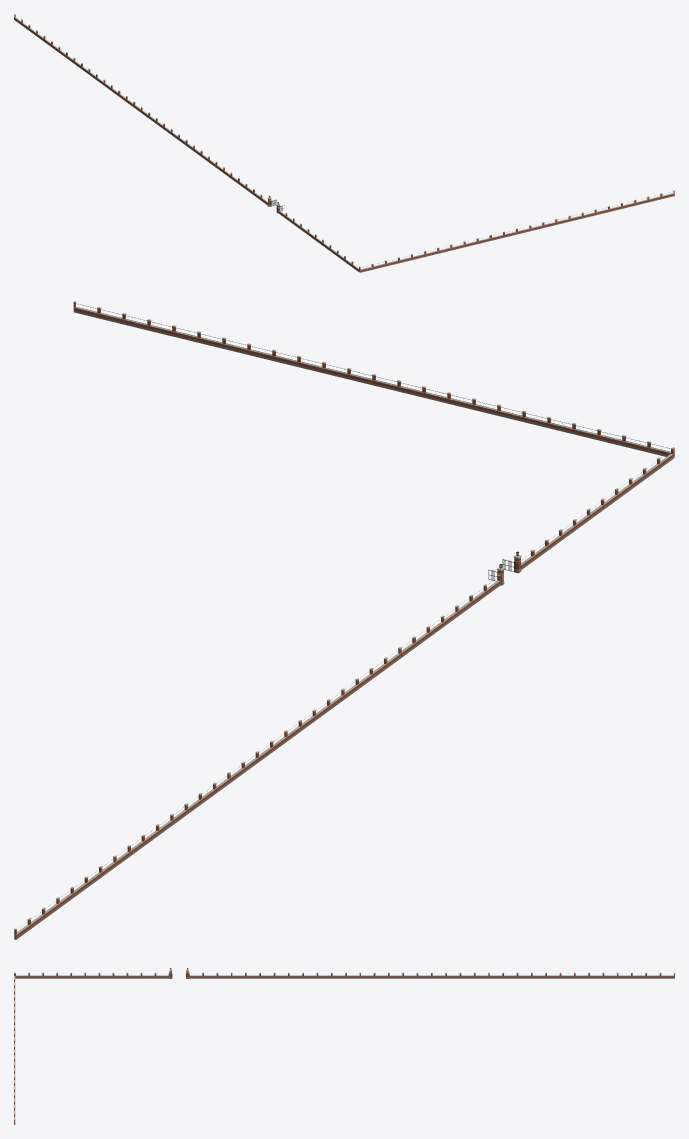
Rendered from xs_gate.glb.
3 views of the same model, one above another, from view 1: azimuth 30°, elevation 25°; view 2: azimuth 150°, elevation 25°; view 3: azimuth 270°, elevation 25° (orthographic). The views are drawn at different scales.
Parts seen in each view (by area): view 1: xg_wall, xg_trim, xg_base; view 2: xg_wall, xg_trim, xg_base; view 3: xg_trim, xg_wall, xg_base.
Boxes of the visible parts, left/top/right/bottom form: xg_wall: left=14, top=15, right=674, bottom=271; xg_trim: left=14, top=14, right=674, bottom=270; xg_base: left=14, top=19, right=674, bottom=272; xg_wall: left=14, top=302, right=674, bottom=937; xg_trim: left=14, top=301, right=674, bottom=935; xg_base: left=14, top=310, right=674, bottom=939; xg_trim: left=14, top=969, right=674, bottom=1122; xg_wall: left=14, top=971, right=674, bottom=1123; xg_base: left=14, top=977, right=674, bottom=1124.
Bounding box in the file's own units: 132 × 4.3 × 251.
7 materials, 4 textured.
